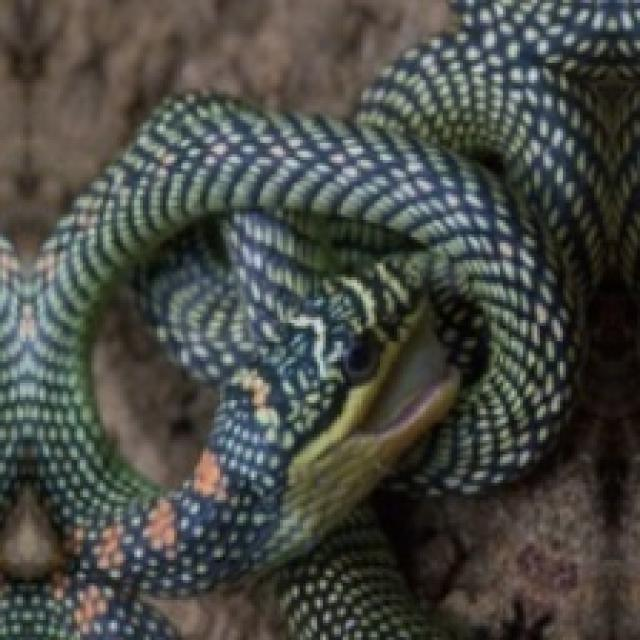paradise tree snake: (363, 0, 637, 637), (0, 0, 449, 254), (286, 546, 420, 637)
